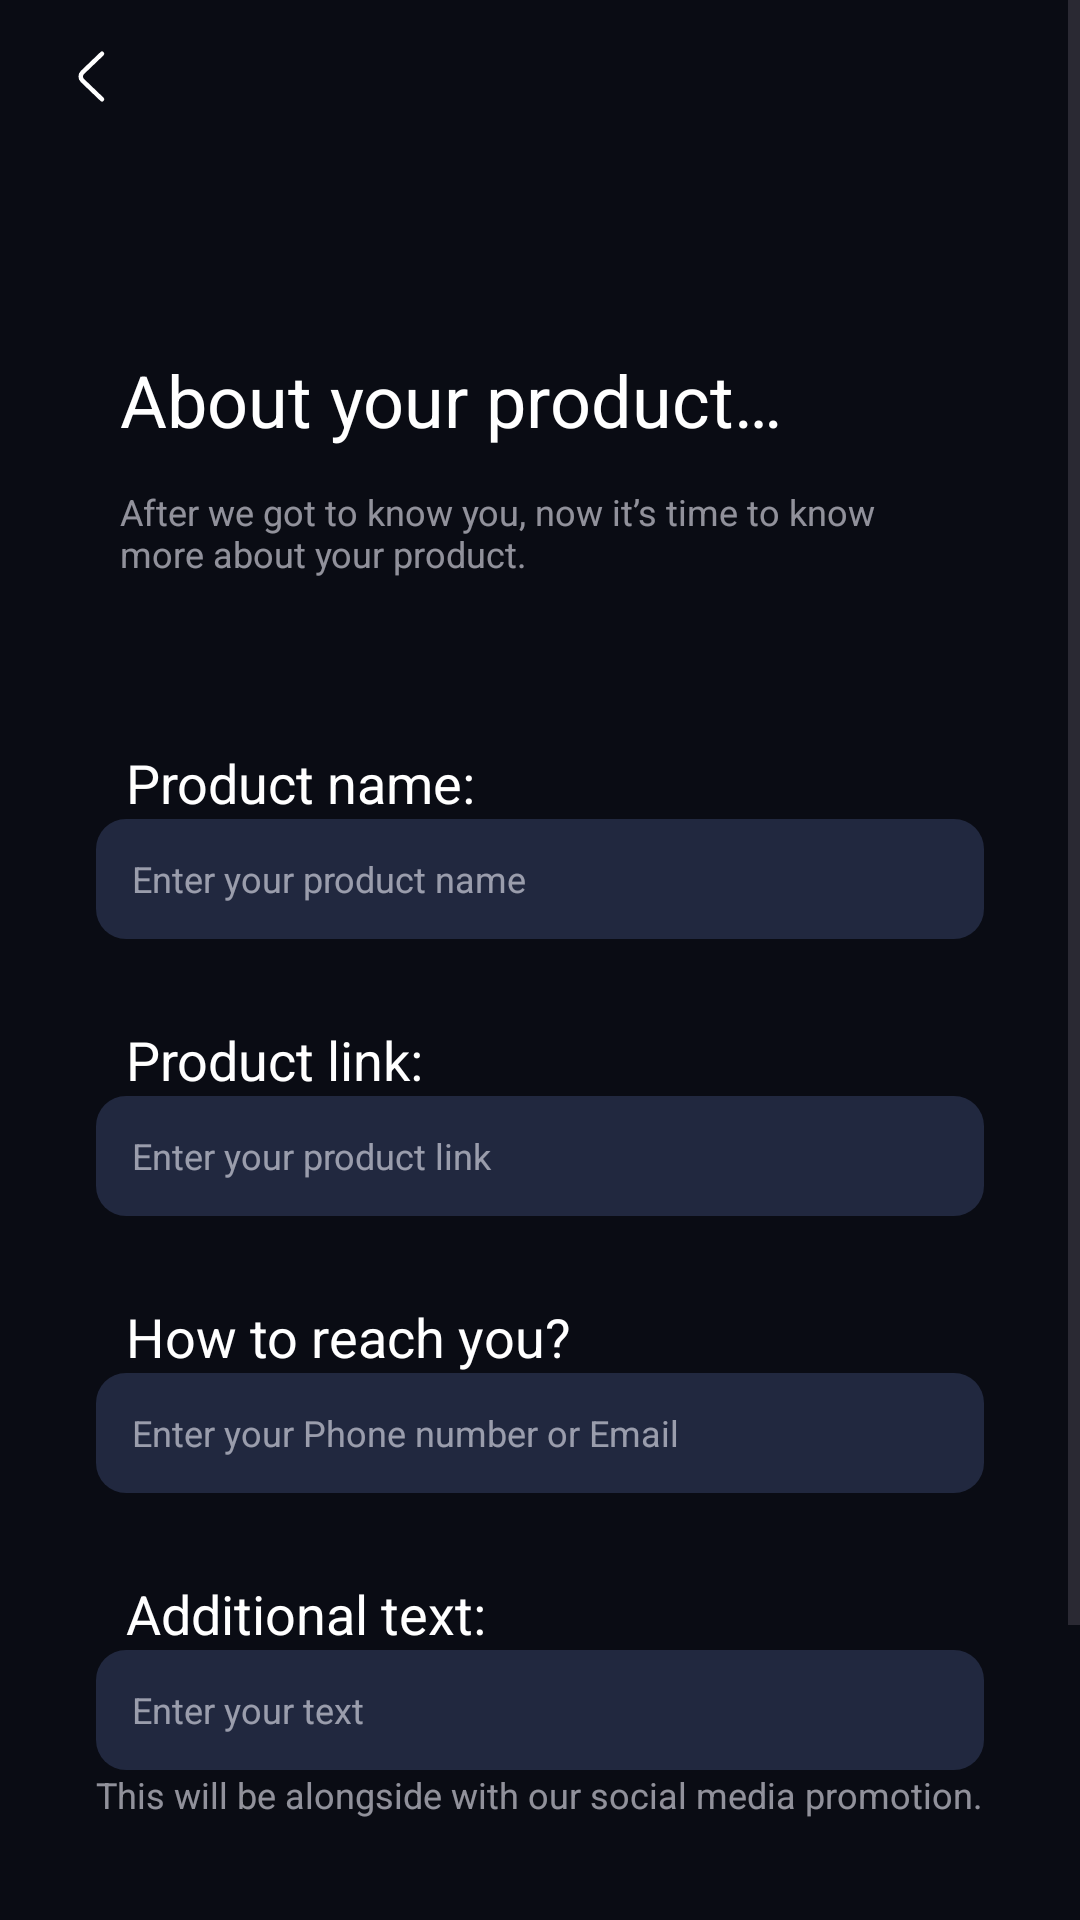

Icon click points for this 1080×1920 phone screenshot, format point (x, y):
back arrow: point (91, 76)
